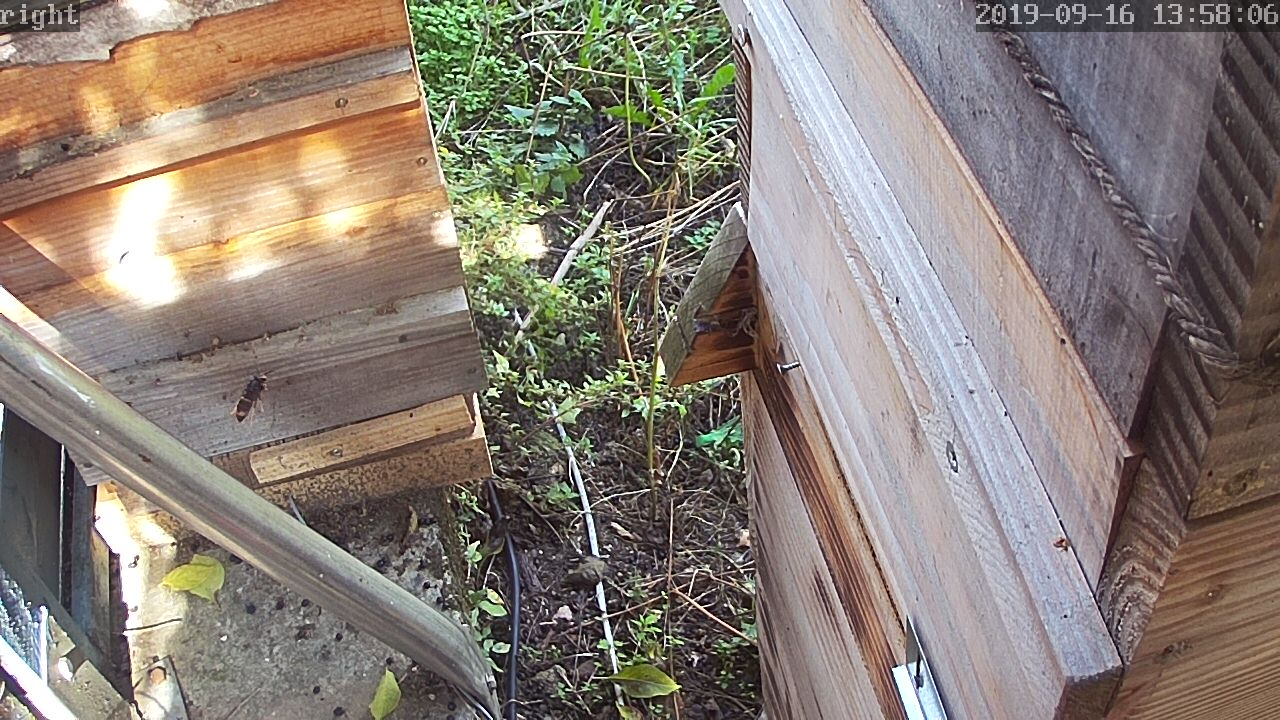bee: (235, 377, 264, 418)
